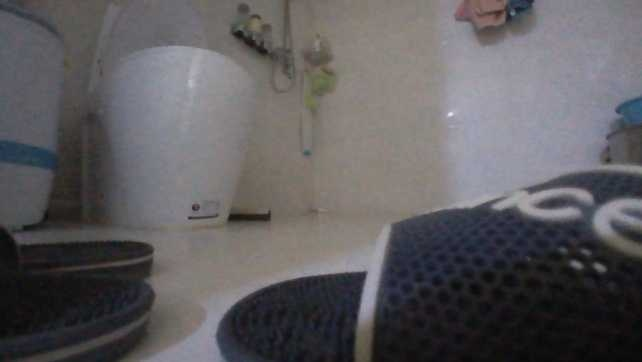slipper: (210, 166, 641, 361)
toilet: (82, 0, 261, 227)
